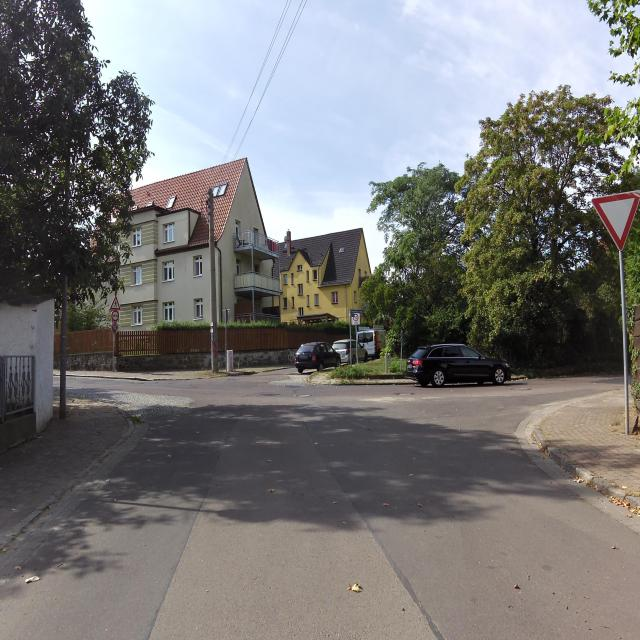Good: (294, 392, 315, 399), (260, 391, 281, 398), (395, 390, 415, 397)
